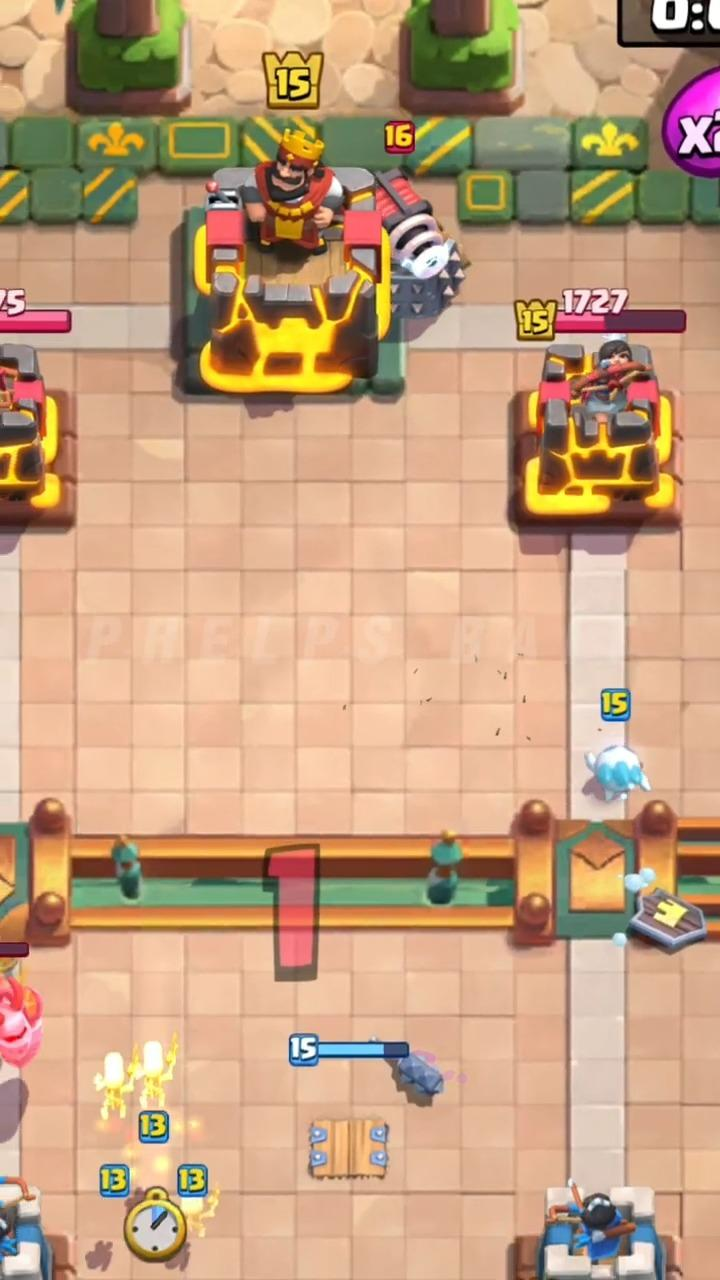ice spirit: (585, 745, 651, 803)
mega minion: (0, 974, 43, 1069)
skeletons: (94, 1034, 178, 1120), (181, 1192, 217, 1234)
sparky: (370, 170, 468, 320)
tesla: (308, 1118, 388, 1180)
